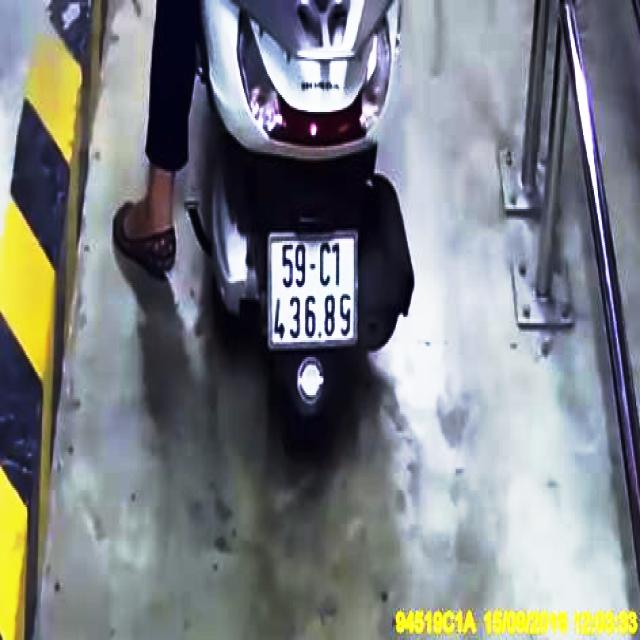license_plate: (271, 232, 357, 347)
